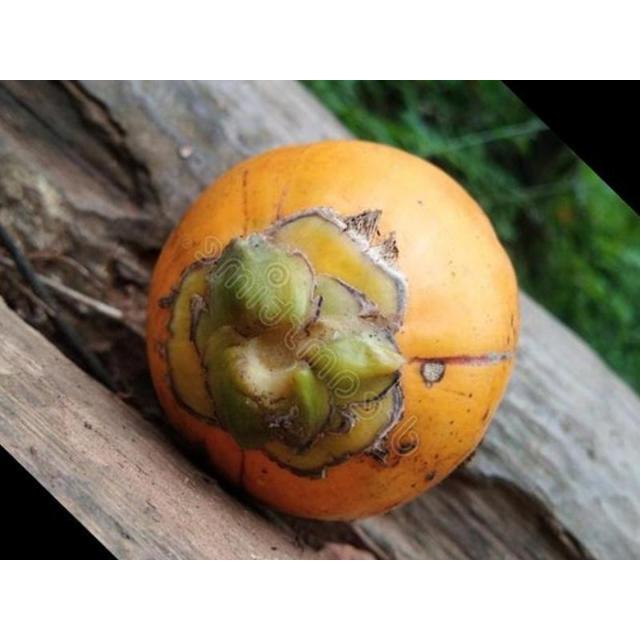good: (144, 140, 521, 526)
